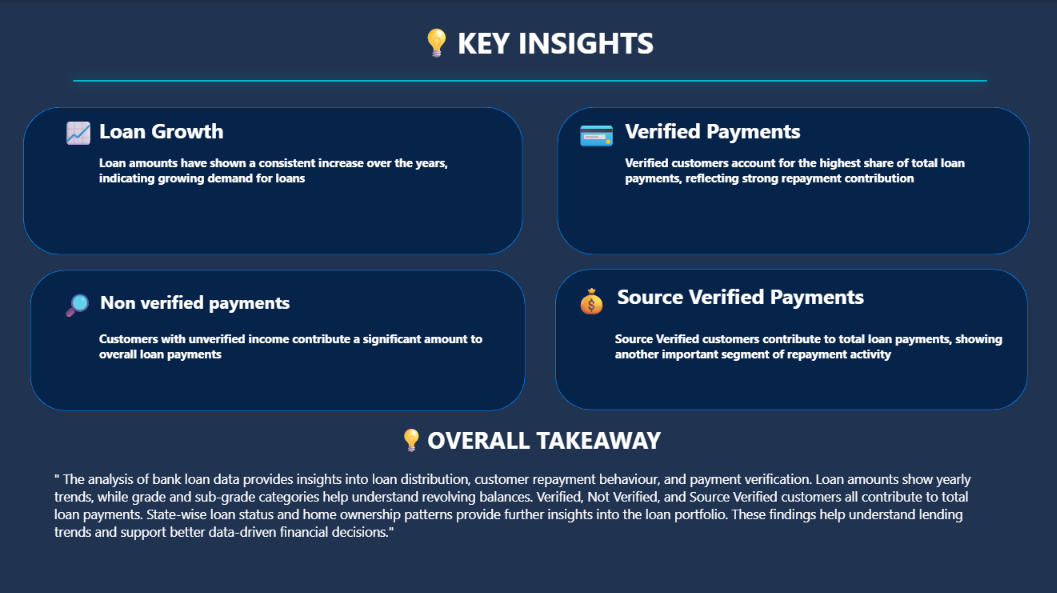

Layout of this report page (visuals, bound fields, positions):
{"tool":"powerbi","page":{"name":"KEY INSIGHTS","canvas":[1920,1080],"ordinal":1},"visuals":[{"type":"textbox","box":[10,40,1883.3,113.3],"z":0},{"type":"shape","box":[43.3,193.3,904.1,267.3],"z":1000},{"type":"textbox","box":[102,210.2,79.6,712.2],"z":2000},{"type":"textbox","box":[181.6,210.2,561.2,869.4],"z":3000},{"type":"textbox","box":[181.6,279.6,800,461.2],"z":4000},{"type":"shape","box":[1010,193.3,855.1,267.3],"z":5000},{"type":"textbox","box":[1040,193.3,110,133.3],"z":6000},{"type":"textbox","box":[1133.3,210,503.3,870],"z":7000},{"type":"textbox","box":[1132.7,279.6,691.8,461.2],"z":8000},{"type":"shape","box":[55.4,489.3,895.9,255.1],"z":9000},{"type":"textbox","box":[1637,741,188,338],"z":12000},{"type":"textbox","box":[181.6,598,740.8,230.6],"z":13000},{"type":"shape","box":[1006.7,486.7,855.1,255.1],"z":14000},{"type":"textbox","box":[1038.8,510.2,93.9,291.8],"z":15000},{"type":"textbox","box":[1114.3,524.5,585.7,42.9],"z":16000},{"type":"textbox","box":[1114.3,598,746.9,230.6],"z":17000},{"type":"textbox","box":[55.1,765.3,1806.1,232.7],"z":18000},{"type":"textbox","box":[100,850,1692.5,177.5],"z":19000},{"type":"shape","box":[113.3,100,1693.3,93.3],"z":19001},{"type":"textbox","box":[182.1,525,448.2,42.9],"z":19002},{"type":"textbox","box":[112.5,521.4,58.9,185.7],"z":19003}]}

Visuals, with their boxes in screenshot pixels (x1, y1, x2, y2), scaled from the page's 1920x1080 canvas onto the 1057x593 screenshot:
textbox: {"left": 6, "top": 22, "right": 1042, "bottom": 84}
shape: {"left": 24, "top": 106, "right": 522, "bottom": 253}
textbox: {"left": 56, "top": 115, "right": 100, "bottom": 506}
textbox: {"left": 100, "top": 115, "right": 409, "bottom": 592}
textbox: {"left": 100, "top": 154, "right": 540, "bottom": 407}
shape: {"left": 556, "top": 106, "right": 1027, "bottom": 253}
textbox: {"left": 573, "top": 106, "right": 633, "bottom": 179}
textbox: {"left": 624, "top": 115, "right": 901, "bottom": 592}
textbox: {"left": 624, "top": 154, "right": 1004, "bottom": 407}
shape: {"left": 30, "top": 269, "right": 524, "bottom": 409}
textbox: {"left": 901, "top": 407, "right": 1005, "bottom": 592}
textbox: {"left": 100, "top": 328, "right": 508, "bottom": 455}
shape: {"left": 554, "top": 267, "right": 1025, "bottom": 407}
textbox: {"left": 572, "top": 280, "right": 624, "bottom": 440}
textbox: {"left": 613, "top": 288, "right": 936, "bottom": 312}
textbox: {"left": 613, "top": 328, "right": 1025, "bottom": 455}
textbox: {"left": 30, "top": 420, "right": 1025, "bottom": 548}
textbox: {"left": 55, "top": 467, "right": 987, "bottom": 564}
shape: {"left": 62, "top": 55, "right": 995, "bottom": 106}
textbox: {"left": 100, "top": 288, "right": 347, "bottom": 312}
textbox: {"left": 62, "top": 286, "right": 94, "bottom": 388}
